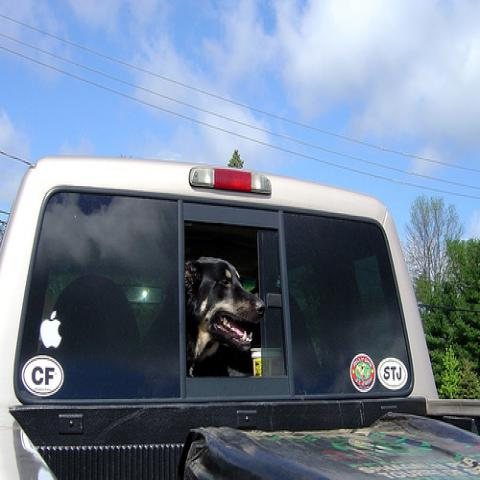truck: (0, 157, 479, 474)
